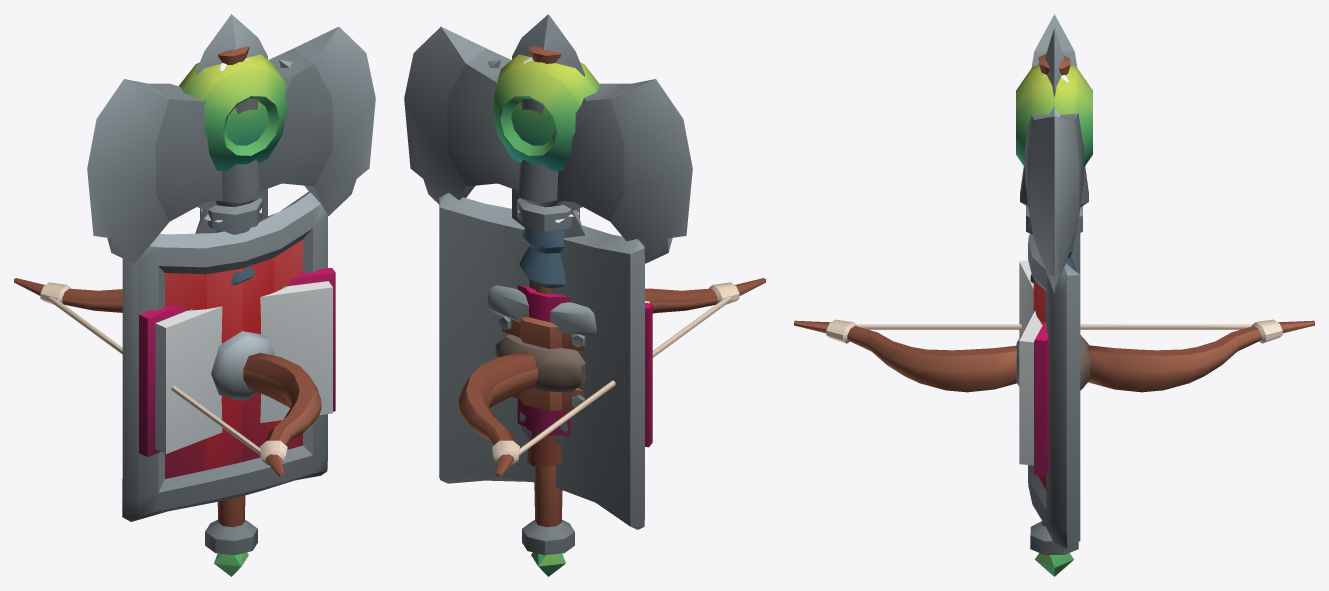
The model's file is props.glb.
3 renders of one model, left to right at view 1: azimuth 30°, elevation 25°; view 2: azimuth 150°, elevation 25°; view 3: azimuth 270°, elevation 25°, orthographic. The views are drawn at different scales.
Visible parts, largest first — view 1: axe_2handed, shield_square_color, spellbook_open, staff, bow_withString, sword_1handed; view 2: shield_square_color, axe_2handed, staff, bow_withString, spellbook_open, sword_1handed; view 3: bow_withString, shield_square_color, axe_2handed, staff, spellbook_open, sword_1handed.
Boxes of the visible parts, x1,y1,x2,y2 form: axe_2handed: [87, 26, 375, 284]; shield_square_color: [122, 191, 327, 521]; spellbook_open: [139, 267, 335, 456]; staff: [179, 54, 292, 576]; bow_withString: [14, 278, 321, 477]; sword_1handed: [187, 14, 286, 310]; shield_square_color: [439, 193, 644, 529]; axe_2handed: [404, 26, 692, 466]; staff: [487, 54, 599, 576]; bow_withString: [458, 278, 765, 477]; spellbook_open: [499, 285, 652, 447]; sword_1handed: [486, 14, 596, 445]; bow_withString: [794, 319, 1314, 392]; shield_square_color: [1016, 233, 1091, 549]; axe_2handed: [1020, 14, 1088, 293]; staff: [1016, 64, 1092, 576]; spellbook_open: [1019, 260, 1049, 476]; sword_1handed: [1040, 27, 1063, 324].
Bounding box in the file's own units: 1.24 × 2.31 × 1.98.
7 materials, 7 textured.
